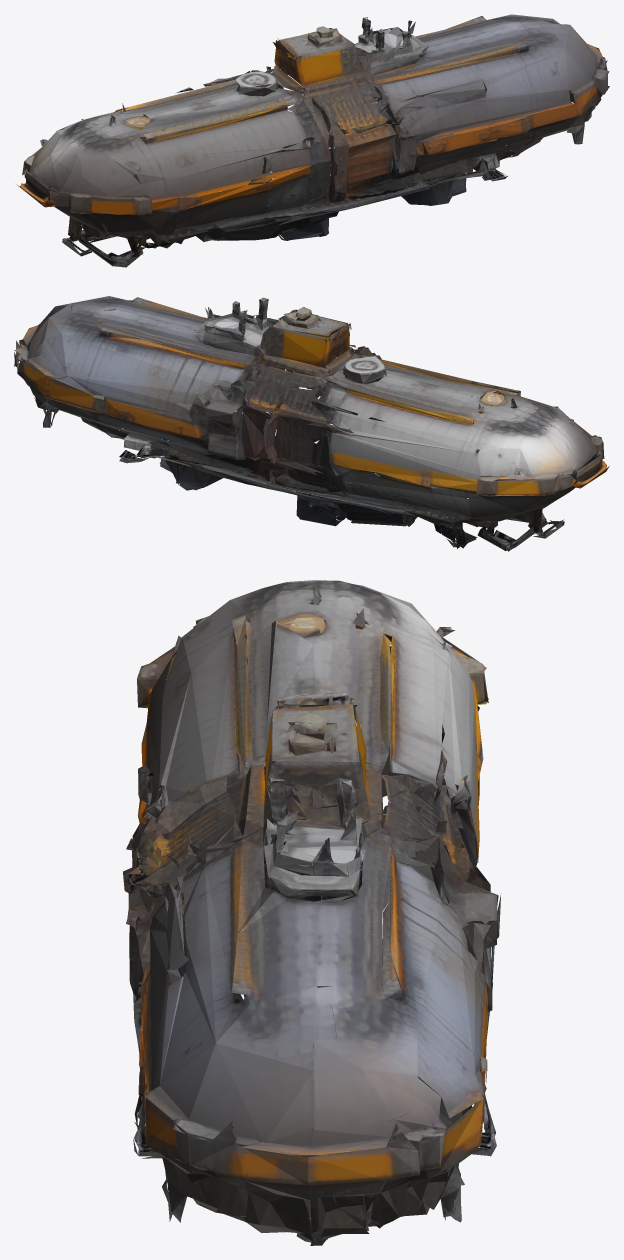
Rendered from submarine_dock_t1.fbx.
3 views of the same model, one above another, from view 1: azimuth 30°, elevation 25°; view 2: azimuth 150°, elevation 25°; view 3: azimuth 270°, elevation 25° (orthographic). The views are drawn at different scales.
Parts seen in each view (by area): view 1: submarine_dock_t1; view 2: submarine_dock_t1; view 3: submarine_dock_t1.
Part boxes in pixels (x1=…): submarine_dock_t1: x1=16, y1=14, x2=609, y2=267; submarine_dock_t1: x1=14, y1=296, x2=609, y2=551; submarine_dock_t1: x1=123, y1=580, x2=501, y2=1245.
Size of the model in its own units: 4.61 by 1.51 by 1.33.
1 material, 1 textured.
